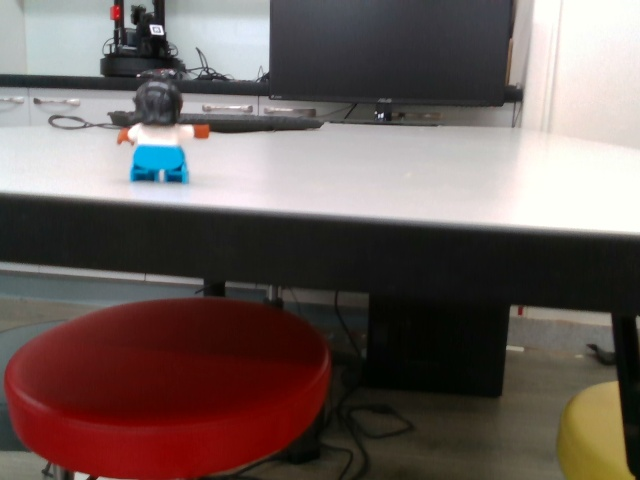people: (117, 77, 211, 186)
